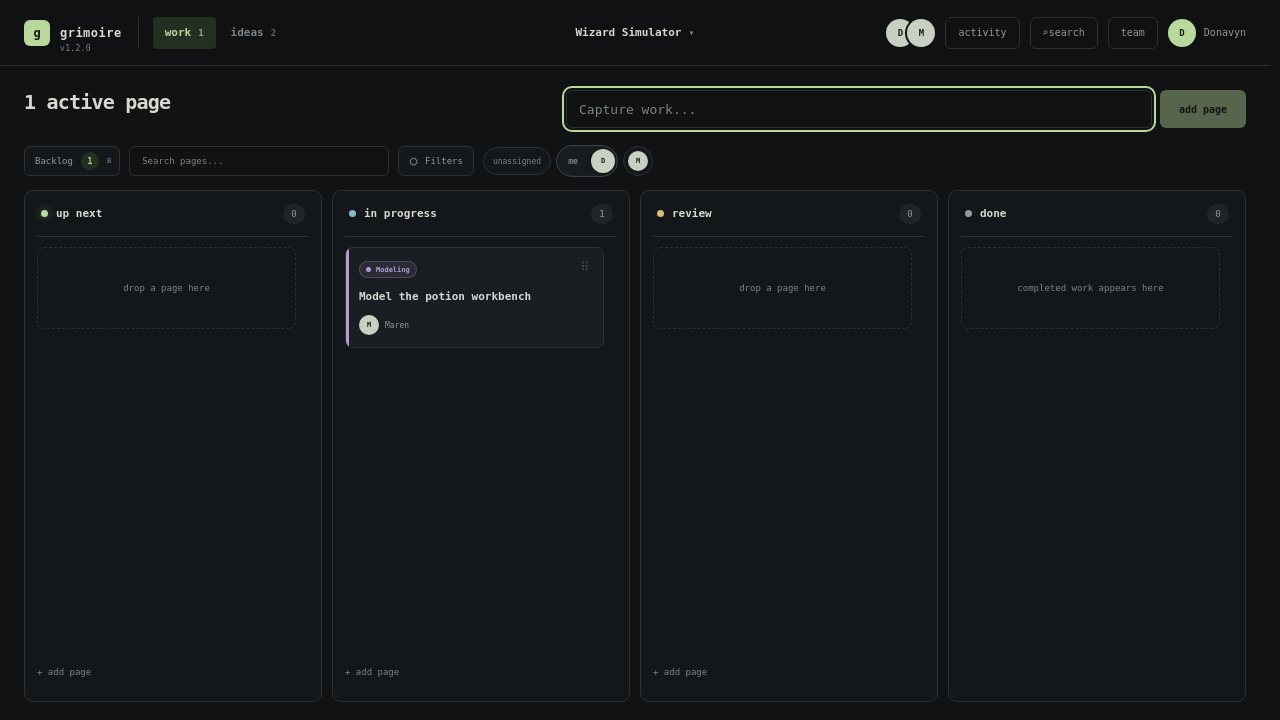
Test: page fields › routes ! to a written field's panel, since its value cannot be listed
The width and height of the screenshot is (1280, 720).
Type "Anything !est" into the dropdown named "Capture work page".
click(859, 109); type("Anything !est")  # box [566, 90, 1152, 128]
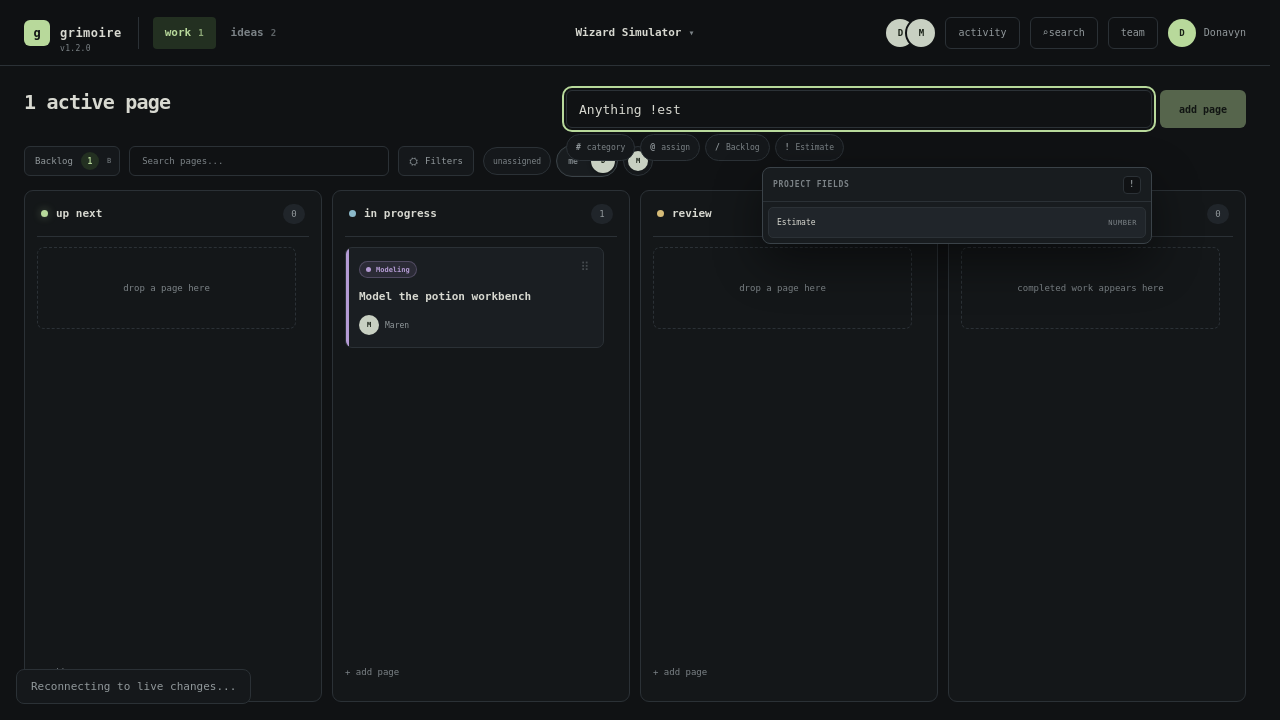
Click the option "Estimate number".
click(796, 222)  # box [768, 207, 1146, 238]
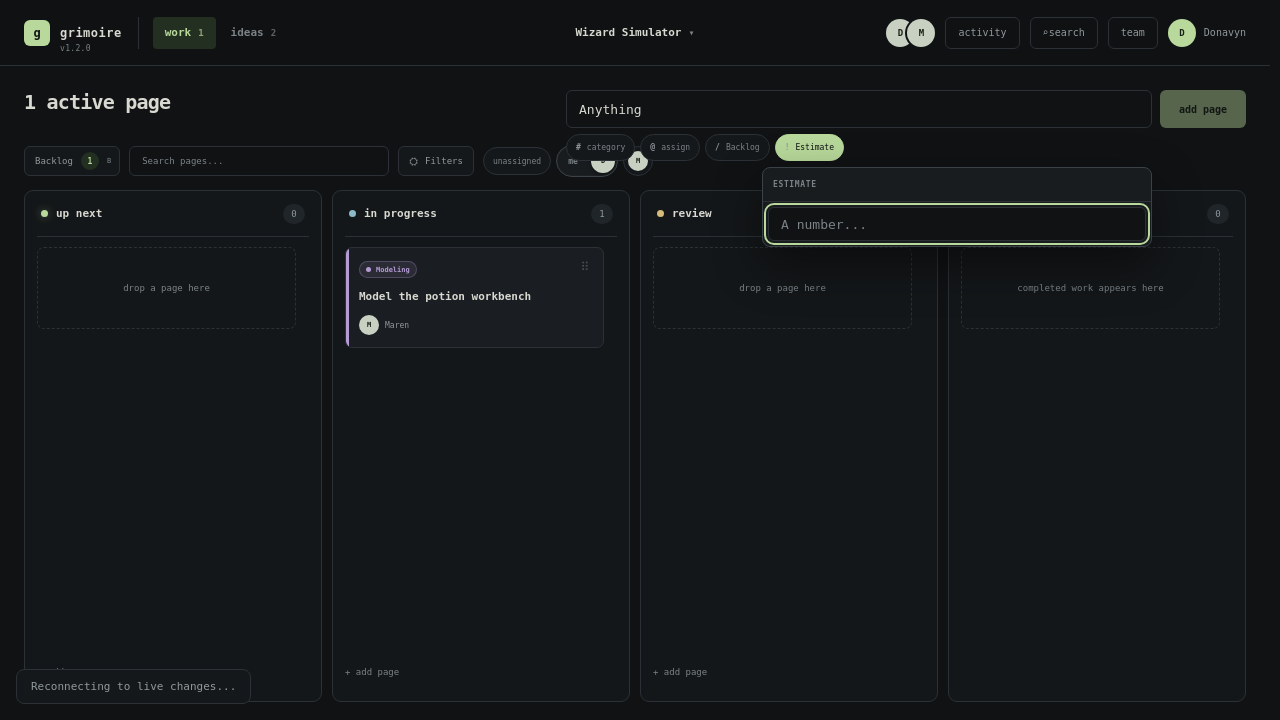
Type "3" into the field named "Estimate".
click(957, 224); type("3")  # box [768, 207, 1146, 241]
Then press Enter
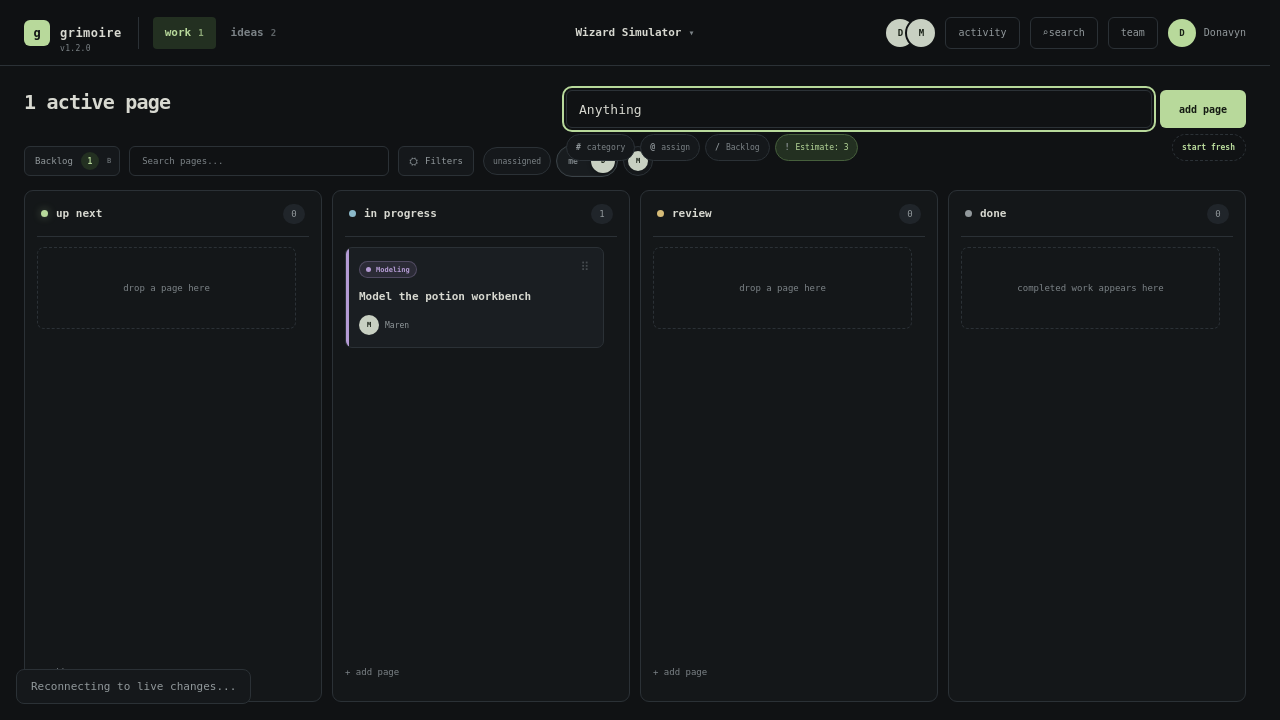
Expected: the dropdown named "Capture work page" holds "Anything ", [566, 90, 1152, 128]
Expected: the button "! Estimate: 3" is shown, [775, 134, 858, 161]
